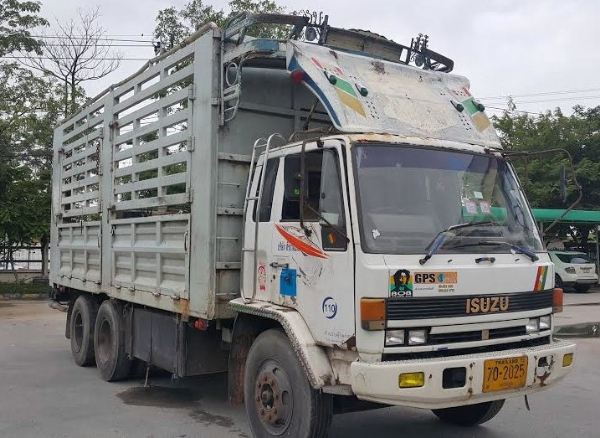truck: (48, 24, 569, 415)
